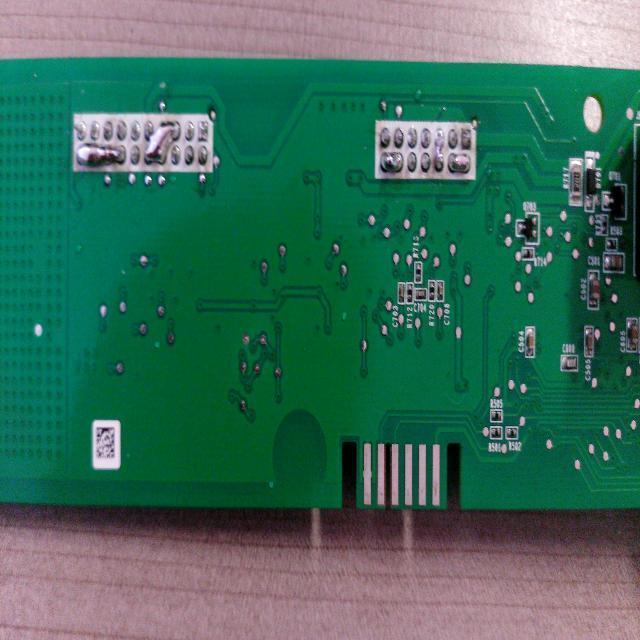Soldering shorted: (143, 116, 182, 172), (75, 141, 126, 172), (434, 124, 448, 177), (375, 152, 405, 176), (447, 151, 475, 176)
